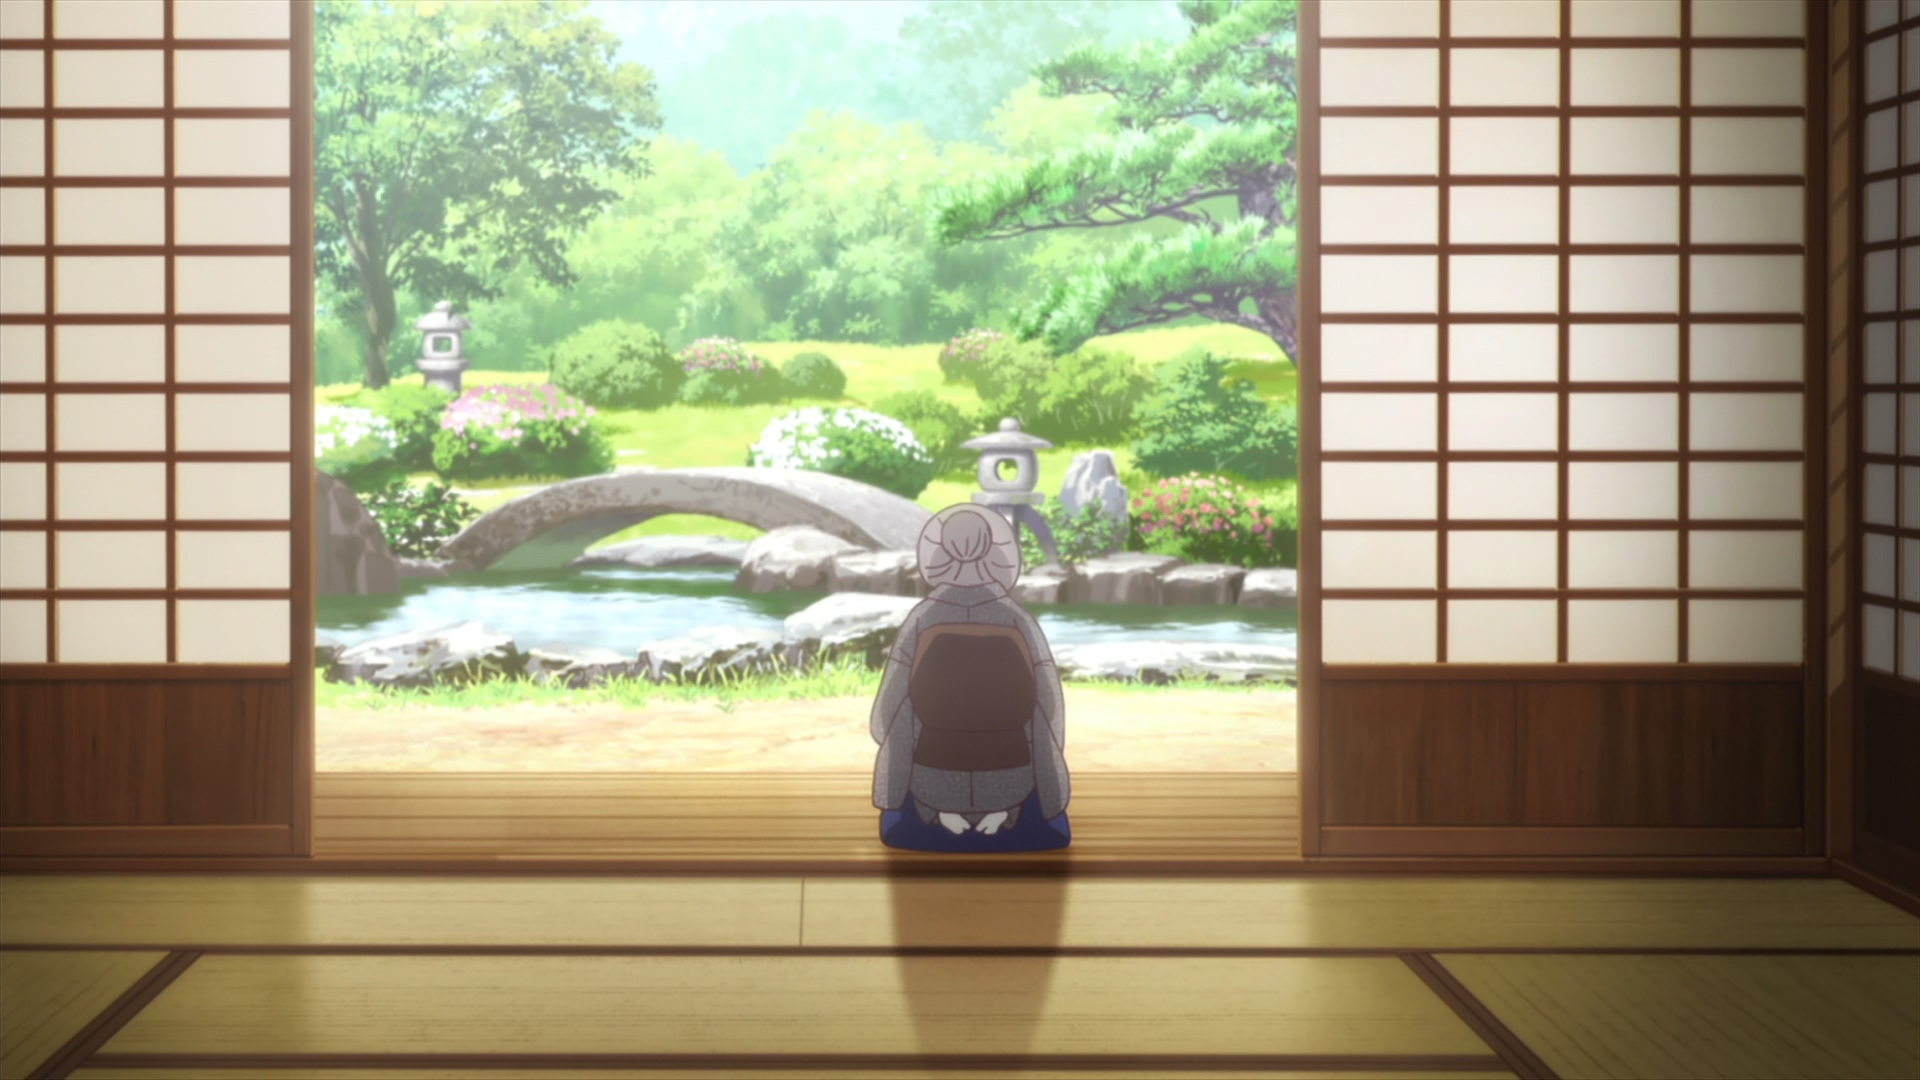其他: (869, 502, 1069, 836)
